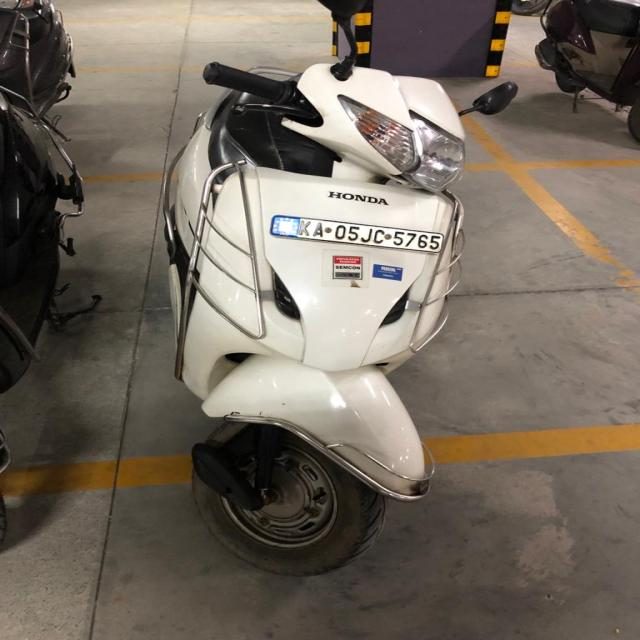license_plate: (270, 214, 444, 254)
